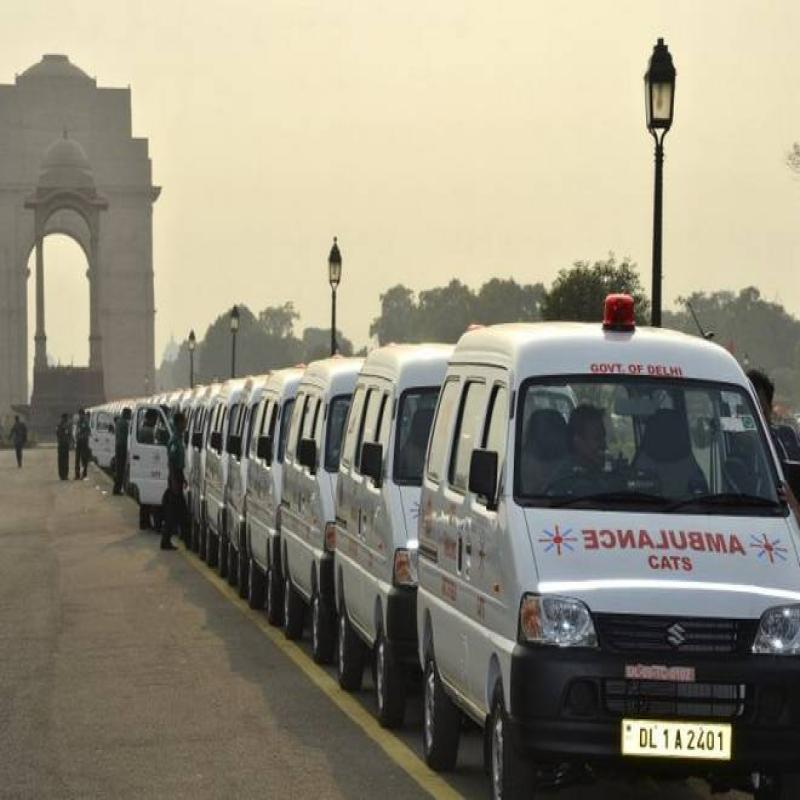AmbulanceSiren: (591, 277, 647, 344)
ambulance: (415, 265, 800, 800)
